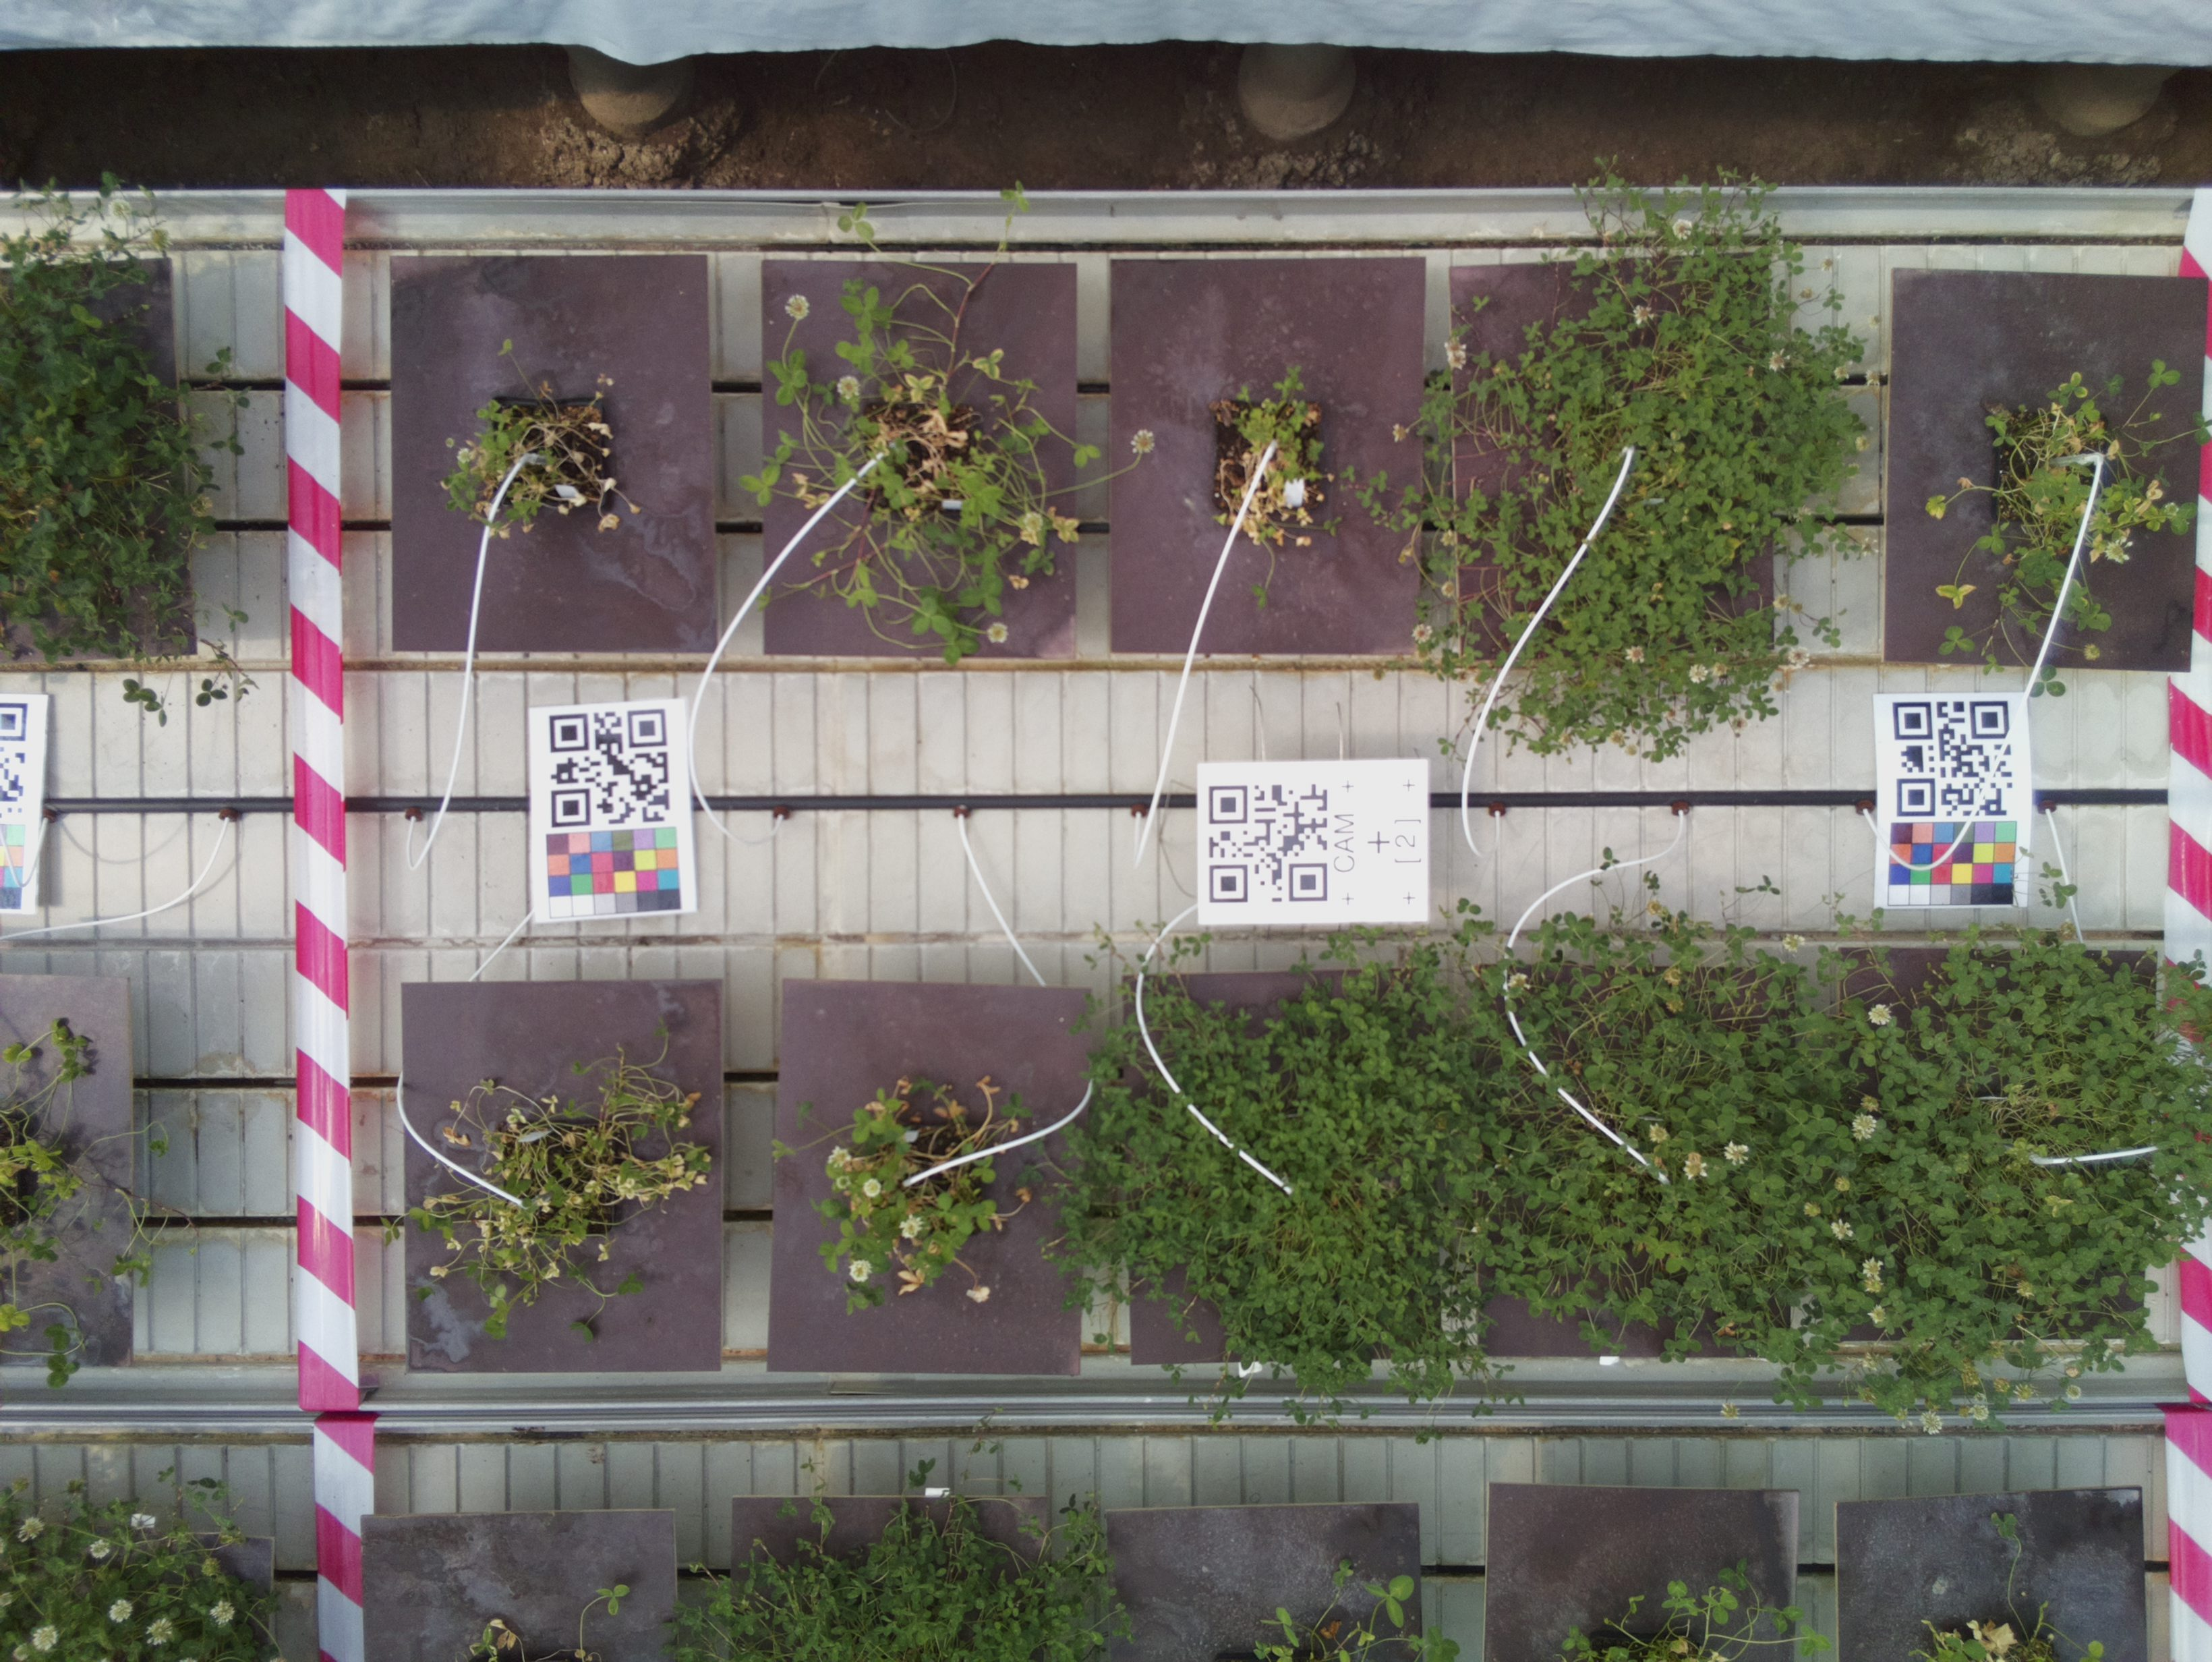POT: (389, 253, 719, 658), (1447, 264, 1781, 658), (1474, 960, 1798, 1363), (1830, 946, 2160, 1341), (759, 257, 1081, 662), (400, 978, 726, 1370), (1107, 257, 1423, 656), (1891, 267, 2198, 674), (1121, 974, 1433, 1372), (773, 976, 1084, 1372)
QRCODE: (1194, 761, 1433, 924)
QRCOLOR: (524, 698, 698, 924), (1870, 691, 2032, 911)
